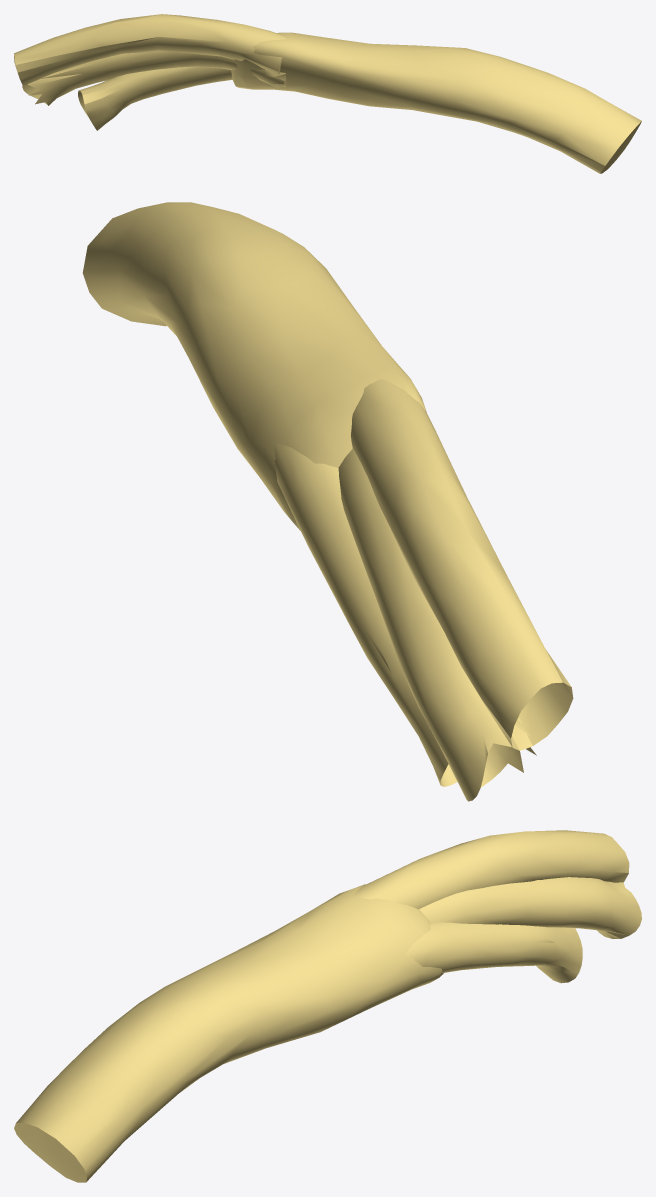
File: fma18178_mm2634.glb
3 renders of one model, top to bottom at view 1: azimuth 30°, elevation 25°; view 2: azimuth 150°, elevation 25°; view 3: azimuth 270°, elevation 25°, orthographic. The views are drawn at different scales.
Visible parts, largest first — view 1: FMA18178_MM2634; view 2: FMA18178_MM2634; view 3: FMA18178_MM2634.
Boxes of the visible parts, x1,y1,x2,y2 form: FMA18178_MM2634: (14,14,641,173); FMA18178_MM2634: (82,202,573,801); FMA18178_MM2634: (14,830,641,1182).
Bounding box in the file's own units: 0.0141 × 0.00391 × 0.0131.
